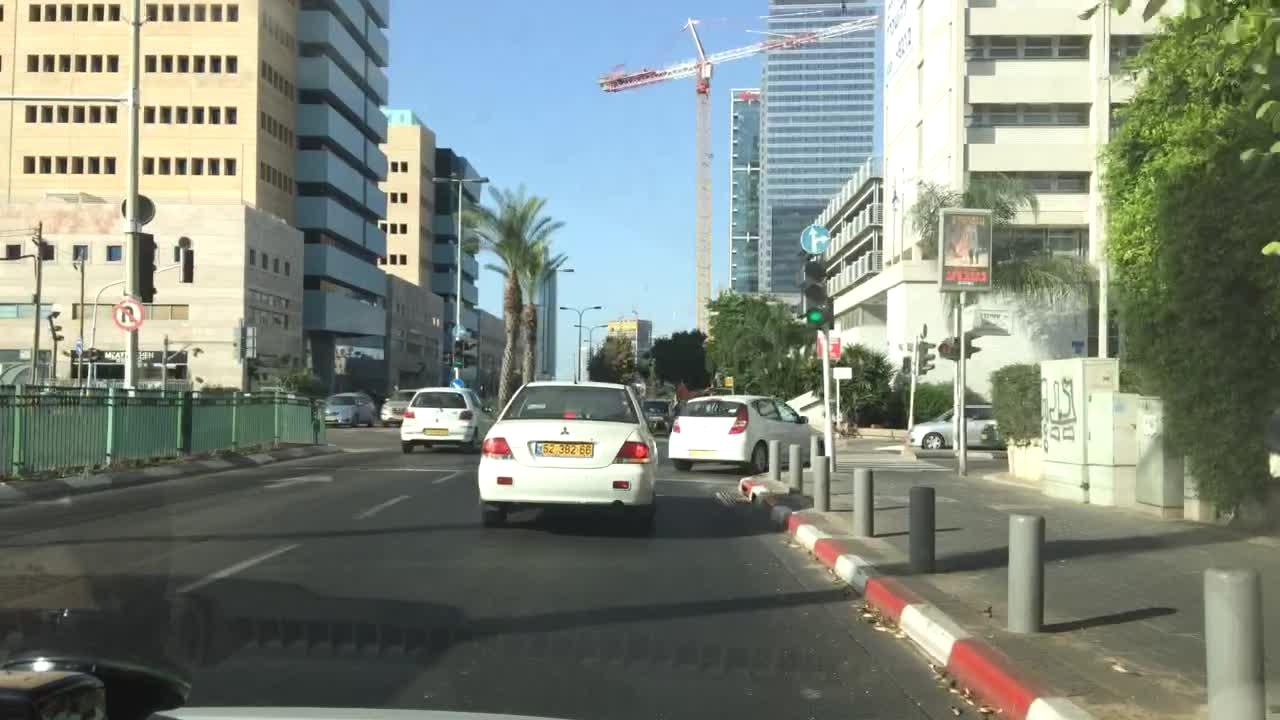Mitsubishi: (557, 421, 573, 439)
